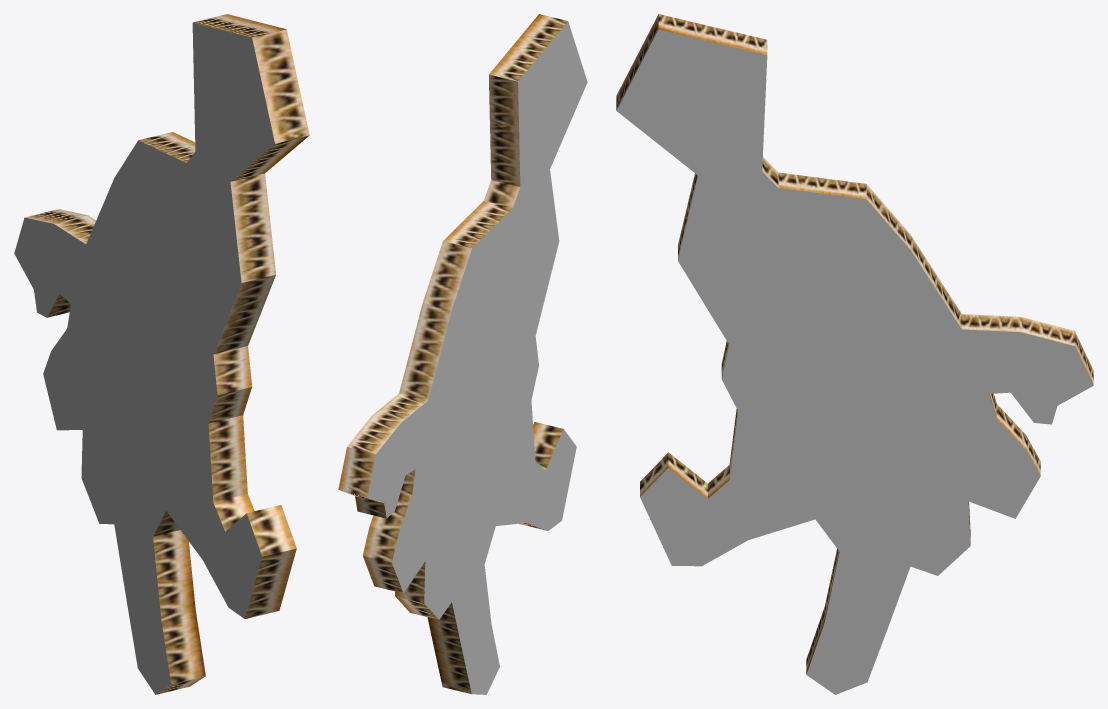
File: Character_Design2.fbx
3 renders of one model, left to right at view 1: azimuth 30°, elevation 25°; view 2: azimuth 150°, elevation 25°; view 3: azimuth 270°, elevation 25°, orthographic. The views are drawn at different scales.
Visible parts, largest first — view 1: Vert; view 2: Vert; view 3: Vert.
Part boxes in pixels (x1,y1,x2,y2): Vert: (14, 14, 309, 694); Vert: (338, 14, 587, 694); Vert: (616, 14, 1093, 694).
Bounding box in the file's own units: 8.98 × 180 × 117.
